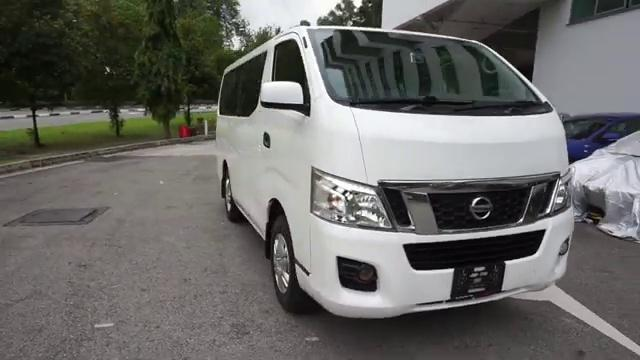van: (215, 21, 581, 316)
